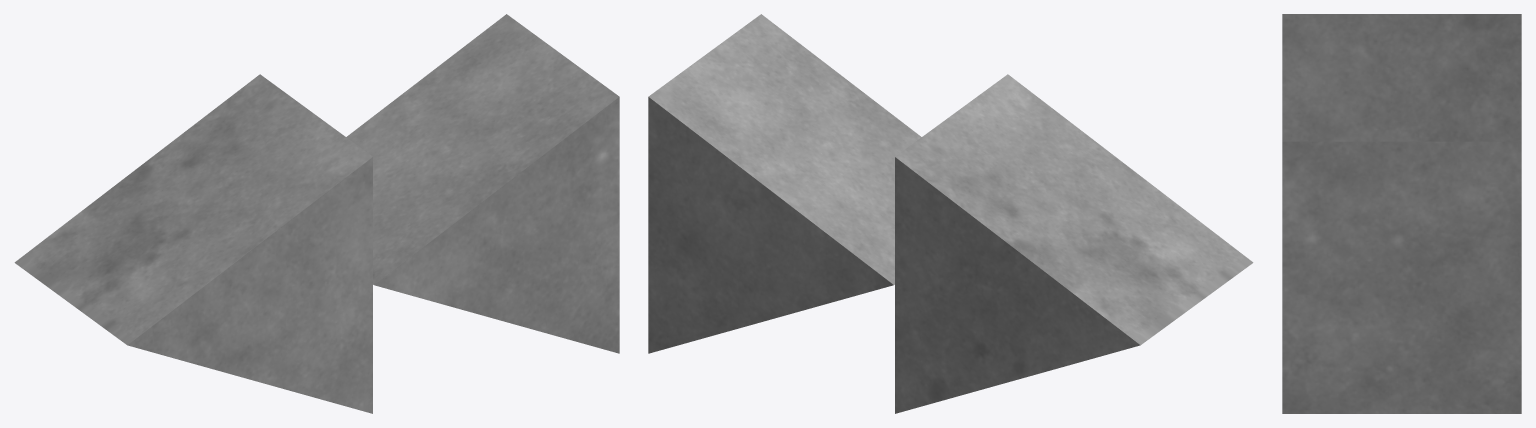
Rendered from BackButtonEXPORT.glb.
3 views of the same model, side by side, from view 1: azimuth 30°, elevation 25°; view 2: azimuth 150°, elevation 25°; view 3: azimuth 270°, elevation 25° (orthographic). The views are drawn at different scales.
Parts seen in each view (by area): view 1: back; view 2: back; view 3: back.
Part boxes in pixels (<box>): back: <box>14,14,619,413</box>; back: <box>648,14,1253,413</box>; back: <box>1282,14,1521,413</box>.
Bounding box in the file's own units: 2 × 1 × 0.7963.
1 material, 1 textured.
